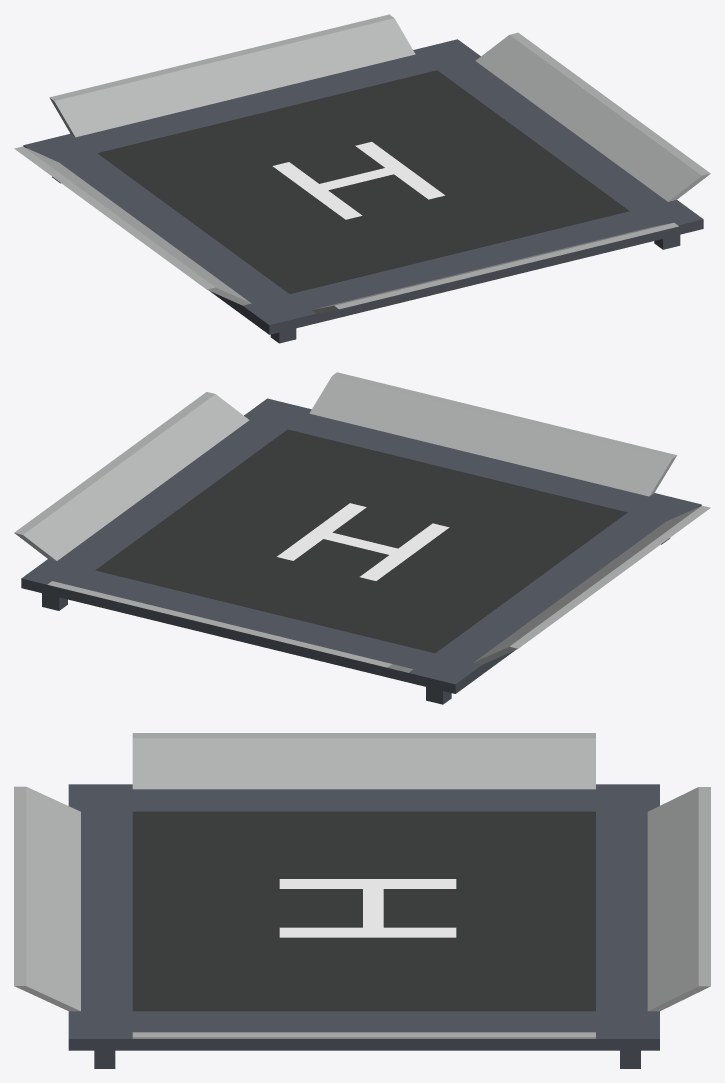
The model's file is helipad.FBX.
3 views of the same model, one above another, from view 1: azimuth 30°, elevation 25°; view 2: azimuth 150°, elevation 25°; view 3: azimuth 270°, elevation 25° (orthographic). The views are drawn at different scales.
Parts seen in each view (by area): view 1: helipad; view 2: helipad; view 3: helipad.
Part boxes in pixels (x1,y1,x2,y2): helipad: [14, 14, 710, 343]; helipad: [14, 372, 710, 704]; helipad: [14, 733, 710, 1068].
Bounding box in the file's own units: 15.93 × 1.69 × 15.87.
